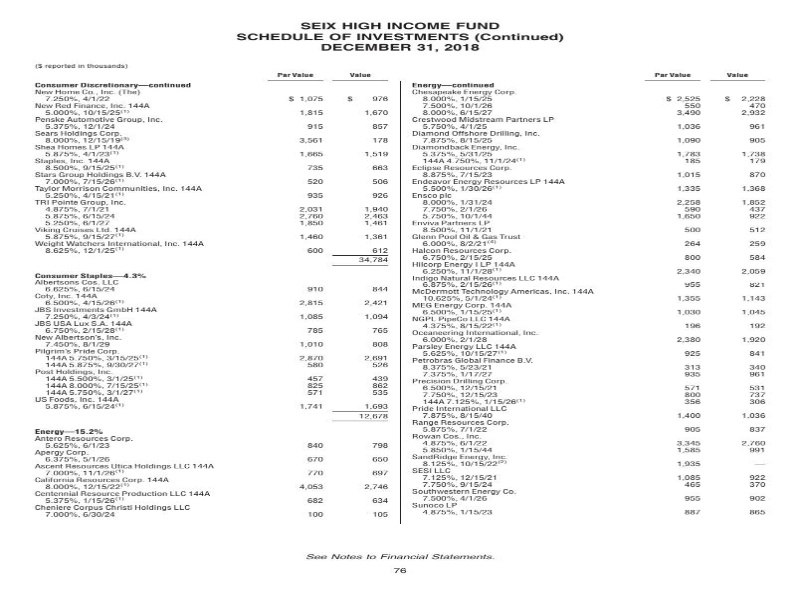table: (20, 59, 407, 535), (393, 66, 789, 531)
